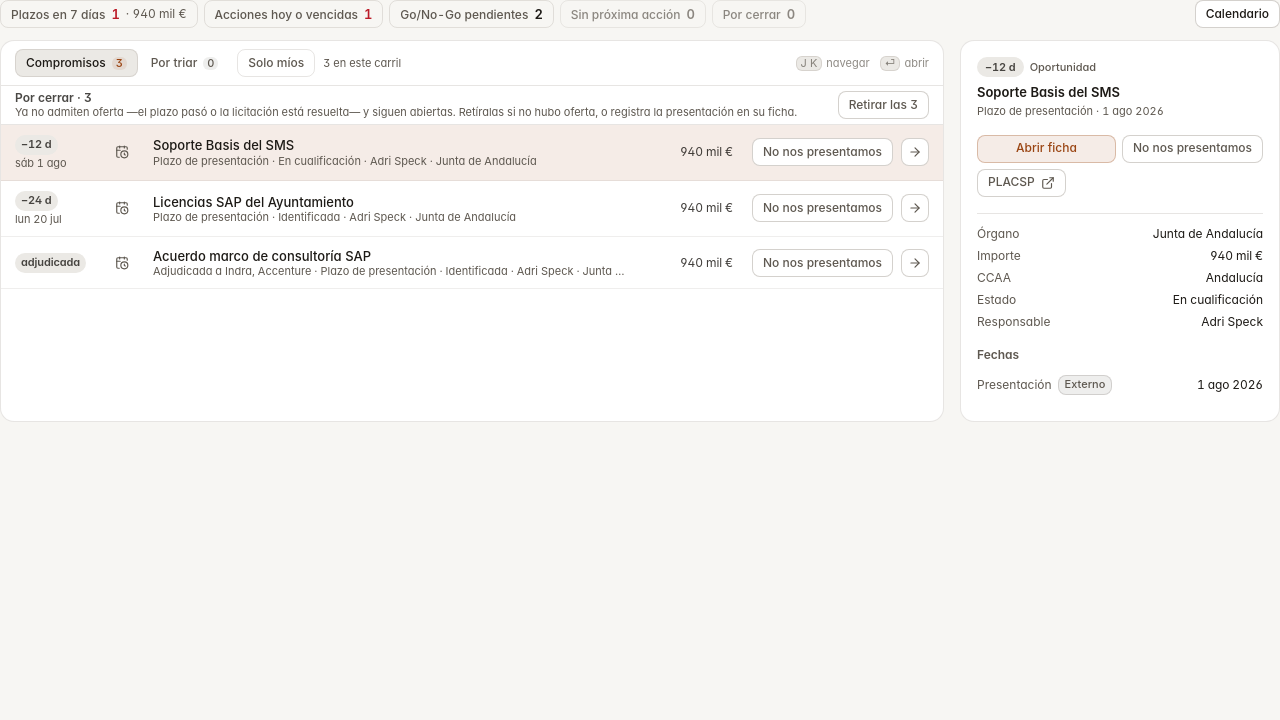
Test: AgendaView — cerrar varias de una vez › las retira todas con una sola confirmación, cada una con su versión
Click the button "Retirar las 3": [883, 105] box [838, 91, 929, 119]
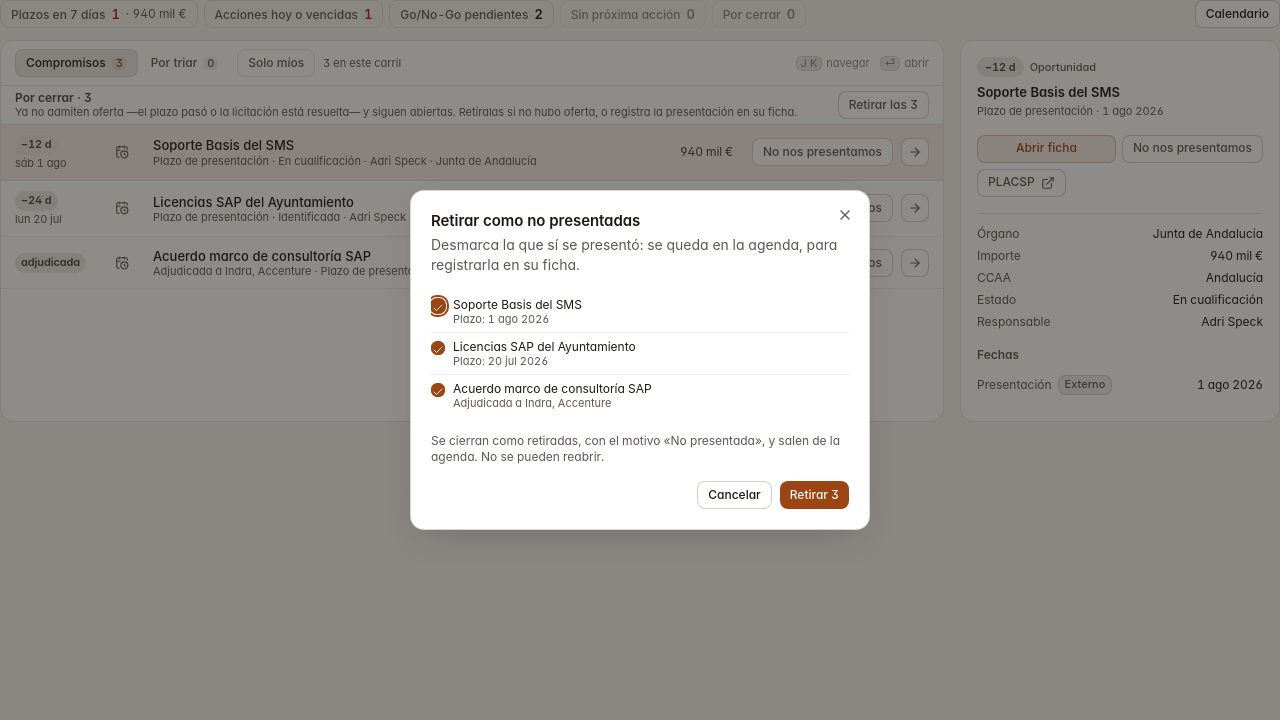
Expected: the number of checkboxes is 3, [431, 298, 445, 312]; [431, 341, 445, 355]; [431, 383, 445, 397]
Click the button "Retirar 3": [814, 495] box [780, 481, 849, 509]
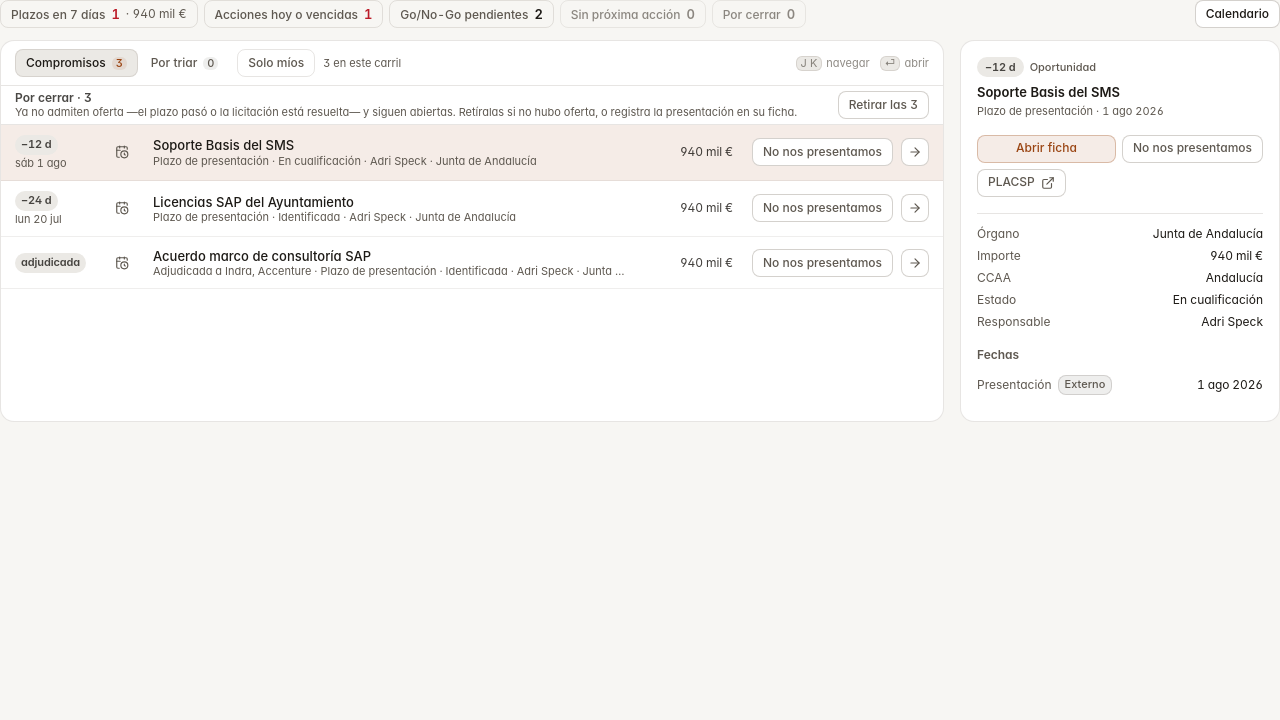
Expected: the dialog is gone
